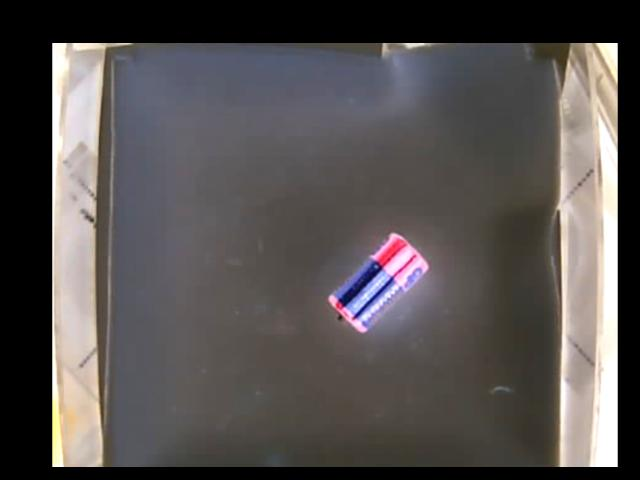Battery: (327, 231, 426, 329)
